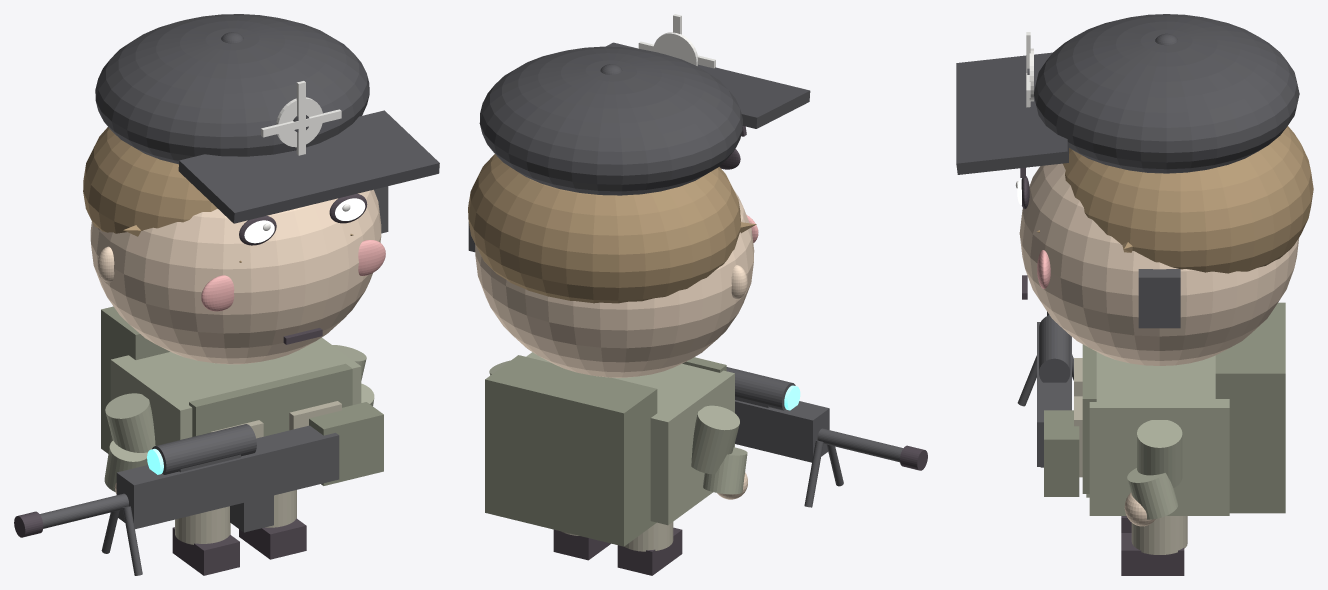
File: sniper.glb
The picture shows the model from 3 angles, left to right: view 1: azimuth 30°, elevation 25°; view 2: azimuth 150°, elevation 25°; view 3: azimuth 270°, elevation 25°; orthographic projection. The views are drawn at different scales.
Parts seen in each view (by area): view 1: Head, CapDome, CapBrim, RifleBody, Coat, HairCap, Vest, RifleStock, Scope, Pack, UpperArm_L, Shoe_L (+14 smaller); view 2: CapDome, HairCap, Pack, Head, Coat, RifleBody, CapBrim, UpperArm_L, Scope, Shoe_L, Forearm_L, RifleBarrel (+4 smaller); view 3: CapDome, Head, HairCap, Coat, Pack, CapBrim, RifleStock, Earphone_R, UpperArm_R, Scope, Leg_R, Shoe_R (+5 smaller).
Boxes of the visible parts, x1=… form: Head: x1=90, y1=189, x2=381, y2=364; CapDome: x1=95, y1=14, x2=369, y2=164; CapBrim: x1=178, y1=110, x2=439, y2=223; RifleBody: x1=116, y1=425, x2=339, y2=529; Coat: x1=110, y1=337, x2=361, y2=445; HairCap: x1=83, y1=127, x2=217, y2=233; Vest: x1=189, y1=363, x2=352, y2=436; RifleStock: x1=309, y1=402, x2=383, y2=485; Scope: x1=152, y1=424, x2=256, y2=474; Pack: x1=101, y1=306, x2=169, y2=453; UpperArm_L: x1=105, y1=393, x2=155, y2=452; Shoe_L: x1=172, y1=527, x2=239, y2=575; CapDome: x1=479, y1=46, x2=742, y2=195; HairCap: x1=468, y1=154, x2=740, y2=303; Pack: x1=485, y1=355, x2=657, y2=546; Head: x1=475, y1=190, x2=754, y2=377; Coat: x1=526, y1=352, x2=734, y2=525; RifleBody: x1=735, y1=400, x2=829, y2=462; CapBrim: x1=606, y1=42, x2=810, y2=128; UpperArm_L: x1=691, y1=405, x2=739, y2=474; Scope: x1=726, y1=367, x2=795, y2=410; Shoe_L: x1=617, y1=527, x2=682, y2=575; Forearm_L: x1=703, y1=447, x2=747, y2=494; RifleBarrel: x1=817, y1=428, x2=903, y2=462; CapDome: x1=1034, y1=14, x2=1299, y2=173; Head: x1=1019, y1=163, x2=1298, y2=365; HairCap: x1=1063, y1=126, x2=1313, y2=273; Coat: x1=1089, y1=352, x2=1229, y2=515; Pack: x1=1215, y1=302, x2=1285, y2=513; CapBrim: x1=956, y1=52, x2=1068, y2=174; RifleStock: x1=1044, y1=410, x2=1079, y2=496; Earphone_R: x1=1138, y1=269, x2=1180, y2=328; UpperArm_R: x1=1137, y1=420, x2=1182, y2=487; Scope: x1=1039, y1=315, x2=1070, y2=382; Leg_R: x1=1131, y1=516, x2=1187, y2=554; Shoe_R: x1=1121, y1=533, x2=1184, y2=575.
Bounding box in the file's own units: 1.67 × 2 × 1.25.
